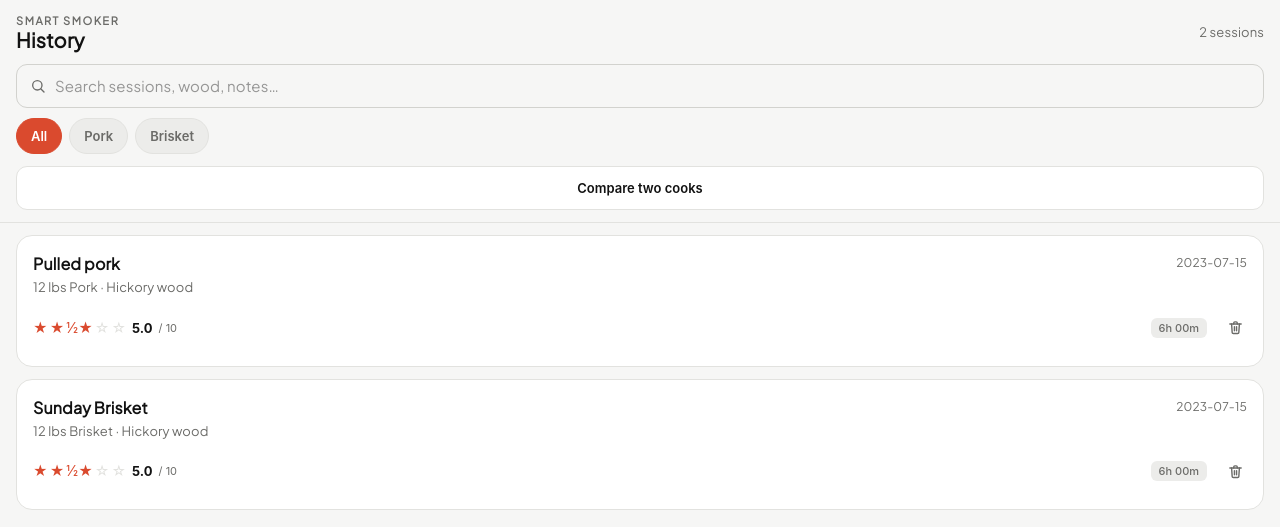
History › finds a cook by a word that was only ever written in its notes
Expected: the heading "Sunday Brisket" is shown, [33,397,148,418]
In the search field named "Search smoke history": coordinates (656, 86) [55,71,1257,102], type "spritzed"
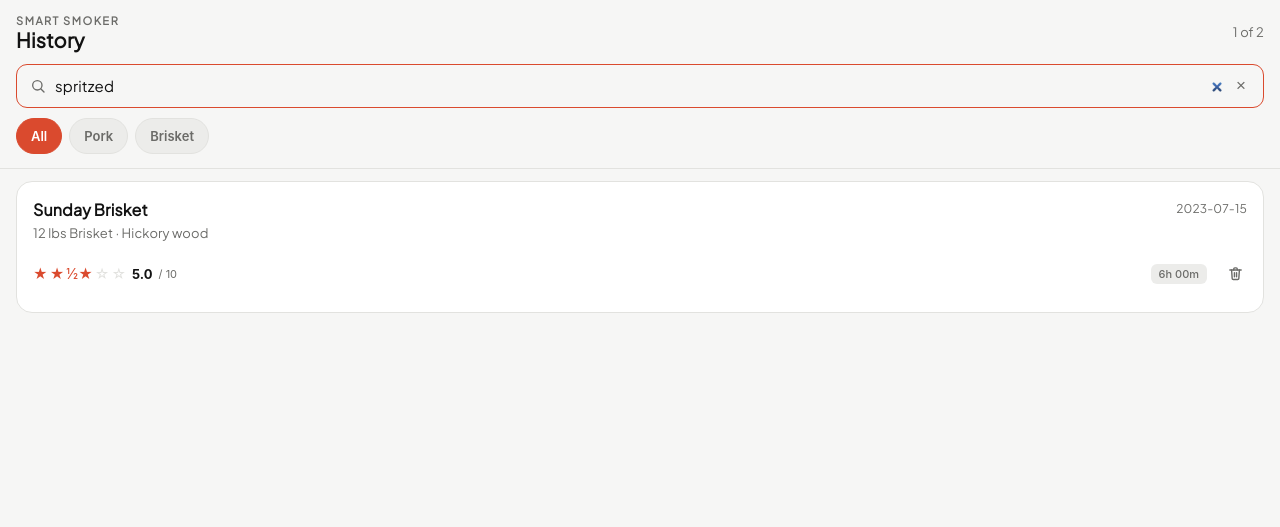
Expected: the heading "Sunday Brisket" is shown, [33,199,148,220]
Result: the heading "Pulled pork" is gone
Result: the text with test id "history-count" reads "1 of 2" at [1233,24,1264,40]
